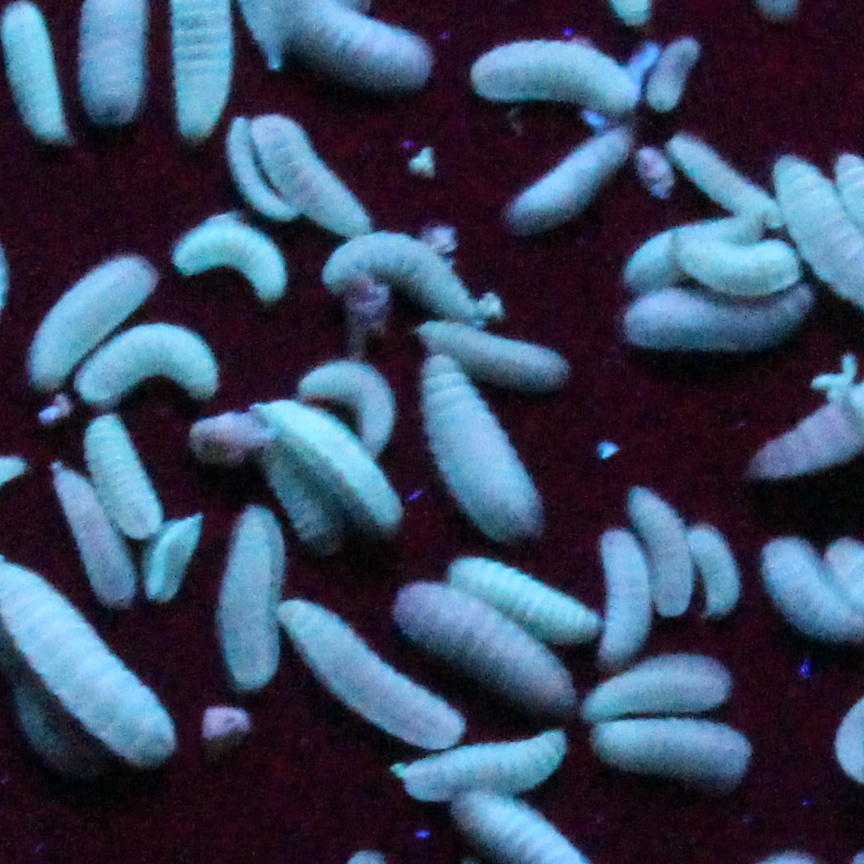larve: (274, 593, 460, 747), (414, 356, 556, 541), (387, 576, 574, 710), (261, 406, 411, 533), (30, 255, 156, 392), (321, 228, 483, 323), (449, 549, 592, 641), (254, 120, 370, 233), (73, 321, 232, 402), (398, 724, 573, 793), (515, 127, 630, 231), (473, 44, 639, 114), (52, 463, 130, 608), (177, 217, 295, 304), (629, 213, 764, 289), (419, 321, 575, 386), (299, 356, 397, 459), (622, 294, 811, 347), (224, 508, 277, 694), (81, 412, 164, 529), (670, 134, 774, 224), (1, 2, 64, 147), (628, 483, 690, 620), (591, 654, 728, 716), (677, 233, 798, 297), (597, 528, 650, 665), (590, 730, 752, 772), (146, 514, 214, 604), (690, 524, 737, 614), (650, 37, 697, 117)
